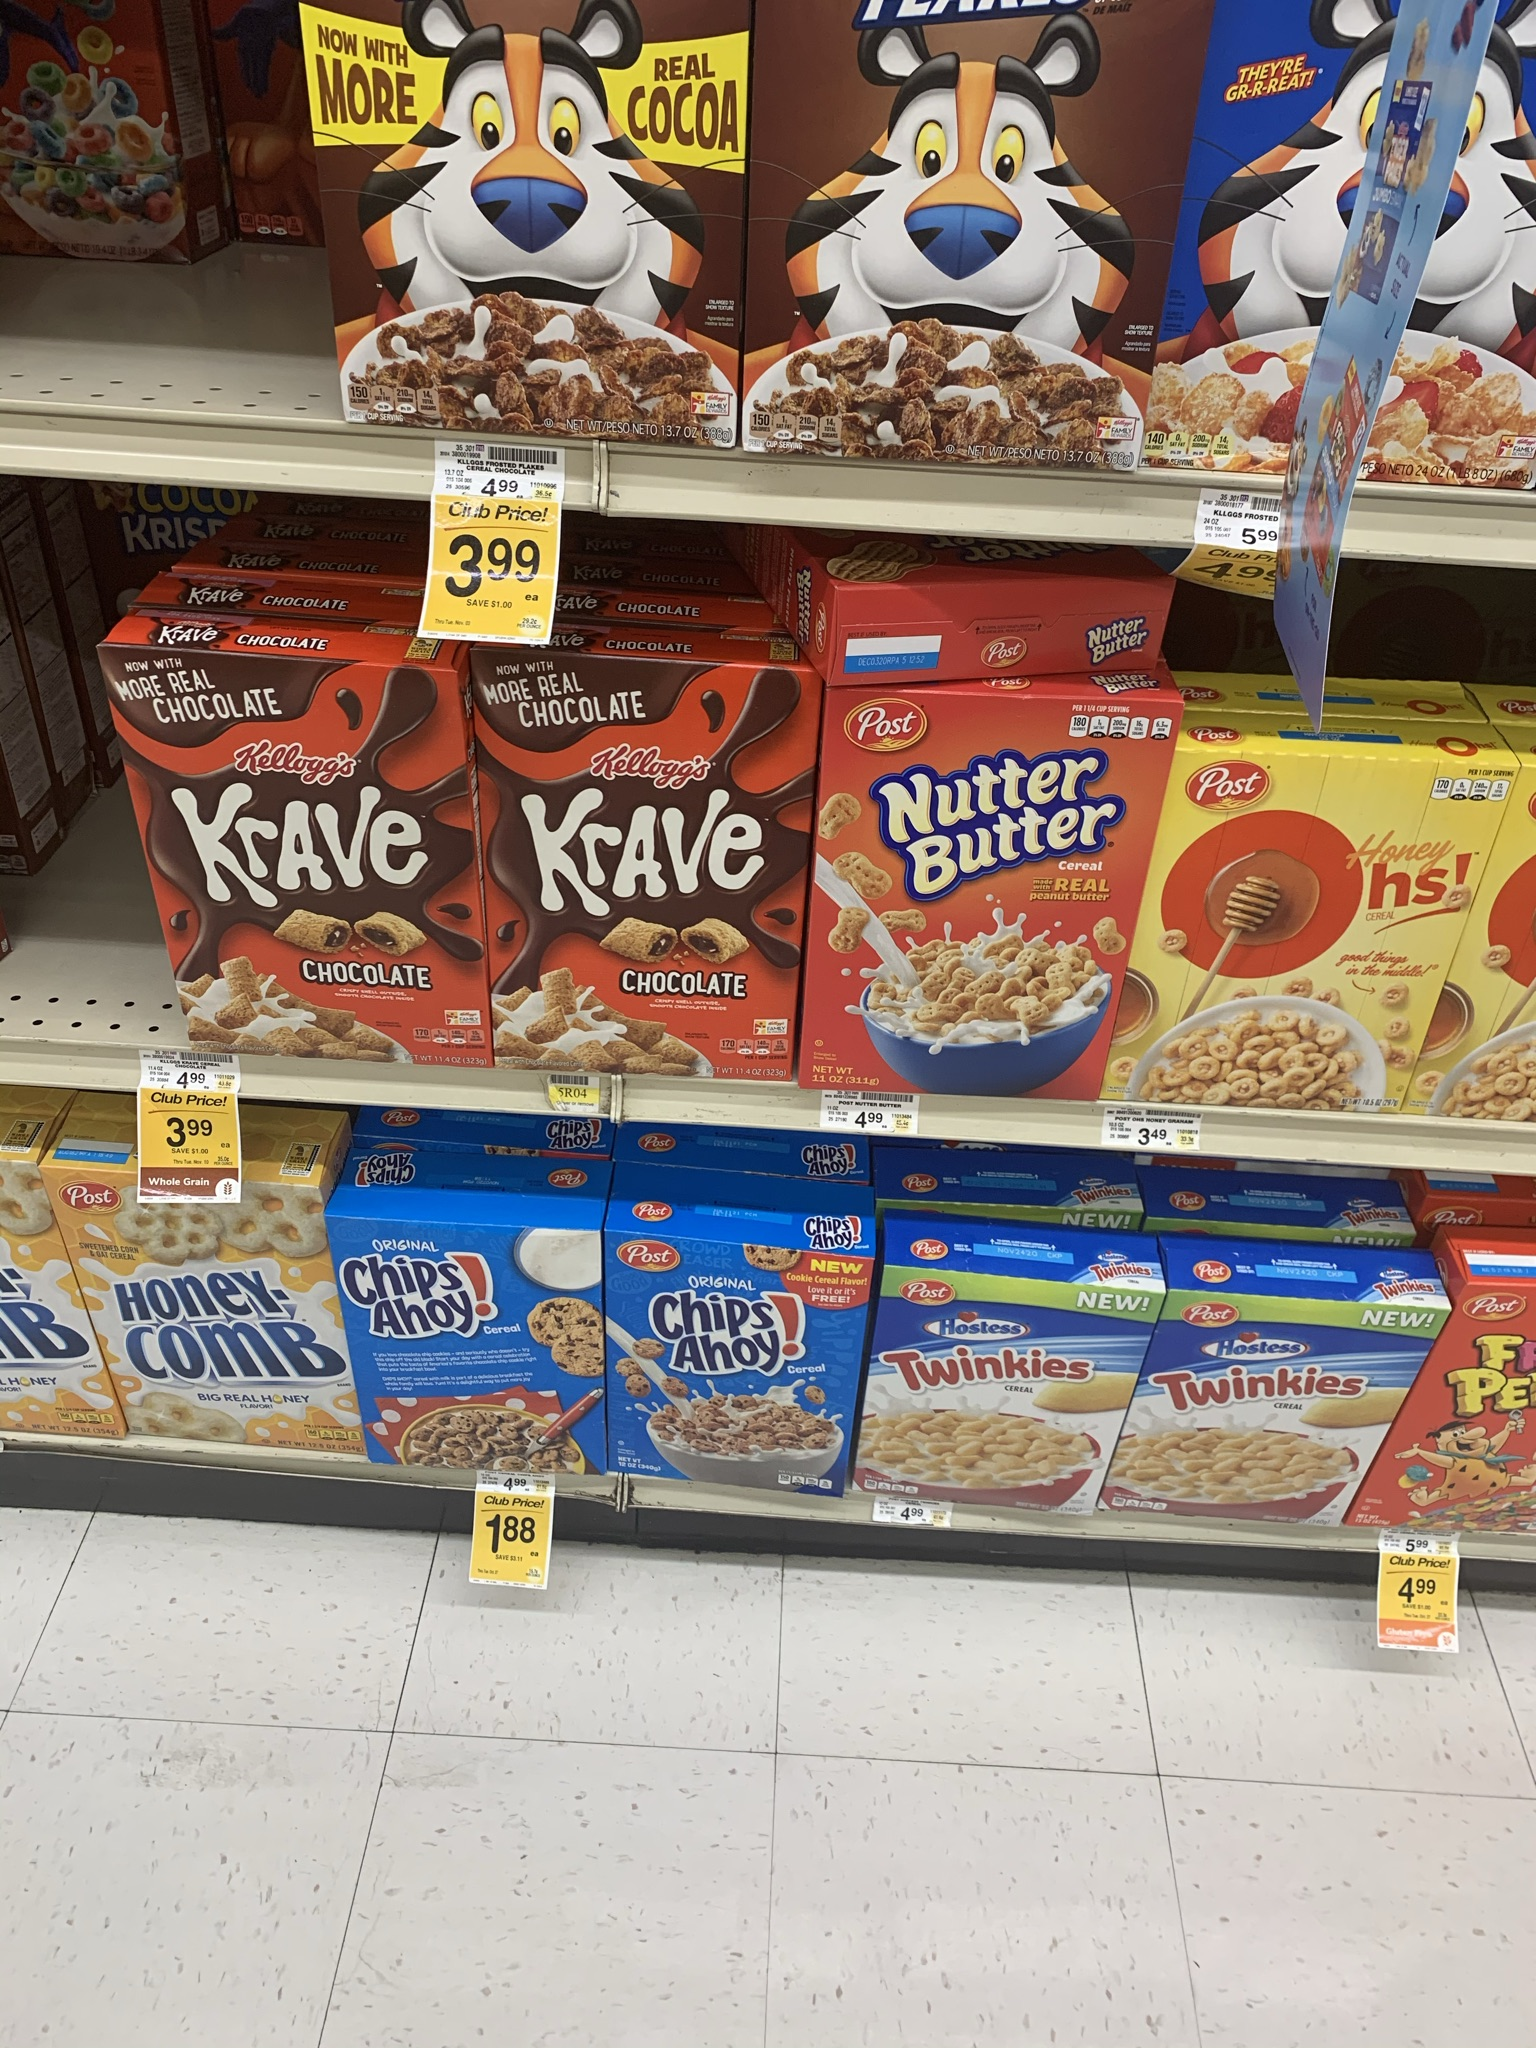cereal: (303, 2, 742, 448), (753, 6, 1146, 472), (1199, 2, 1509, 506), (831, 689, 1104, 1100), (1179, 735, 1434, 1130), (53, 1176, 350, 1471), (331, 1213, 608, 1508), (600, 1238, 858, 1530), (1129, 1279, 1388, 1564), (865, 1250, 1112, 1534)
